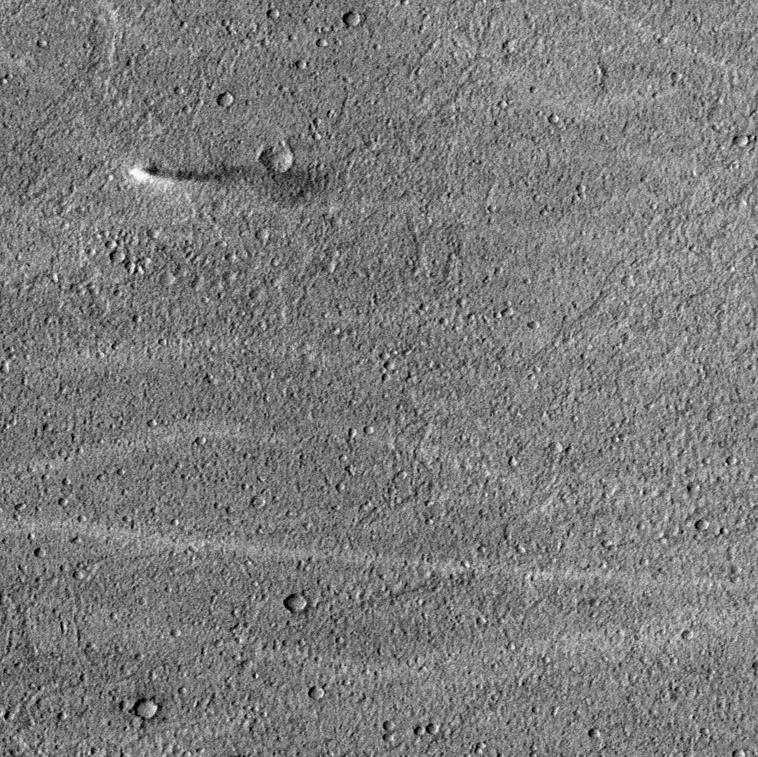dust_devil: (126, 161, 331, 210)
